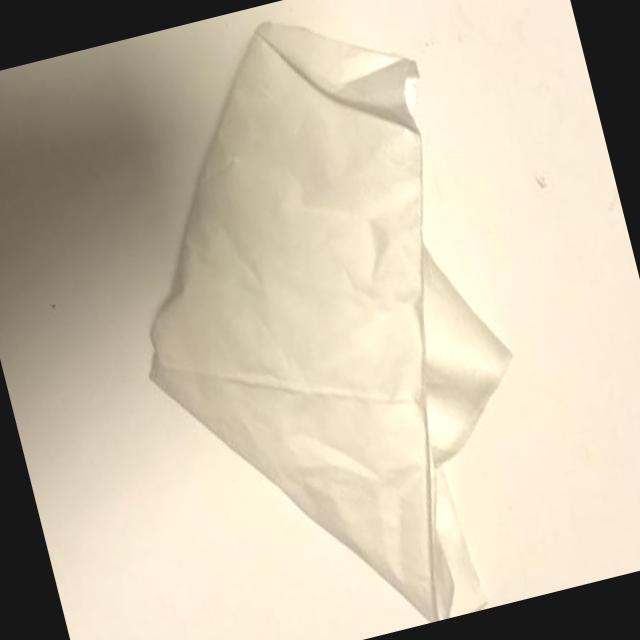giay: (149, 25, 510, 621)
